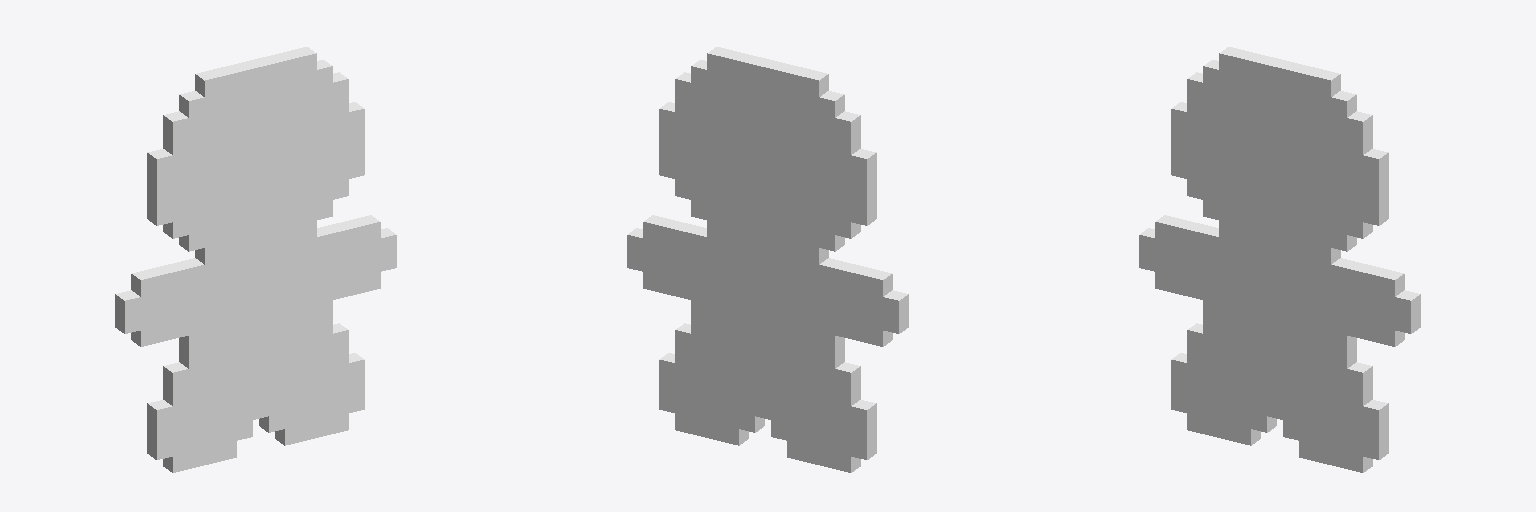
The model's file is печеня.obj.
3 views of the same model, side by side, from view 1: azimuth 30°, elevation 25°; view 2: azimuth 150°, elevation 25°; view 3: azimuth 330°, elevation 25° (orthographic).
Visible parts, largest first — view 1: object 1; view 2: object 1; view 3: object 1.
Part boxes in pixels (x1,y1,x2,y2): object 1: (115, 47, 396, 472); object 1: (627, 47, 908, 472); object 1: (1139, 47, 1420, 472).
Bounding box in the file's own units: 1.7 × 2.3 × 0.1.